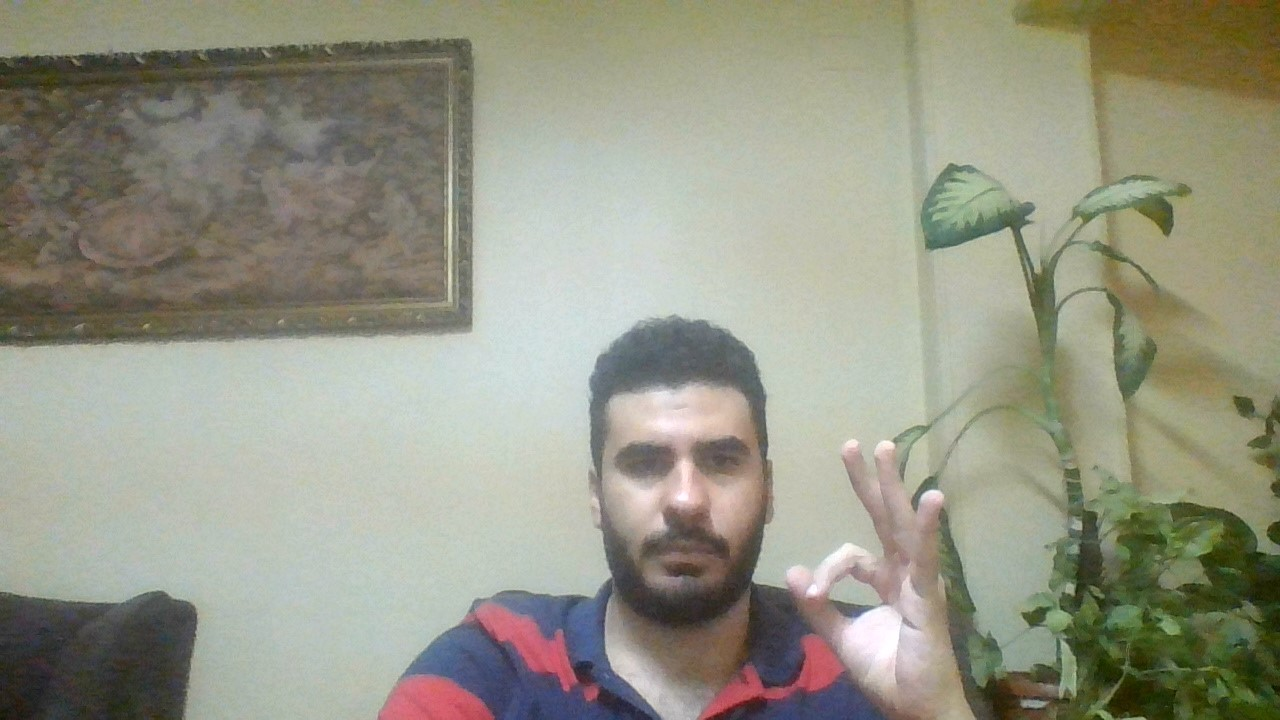okay: (787, 432, 995, 708)
